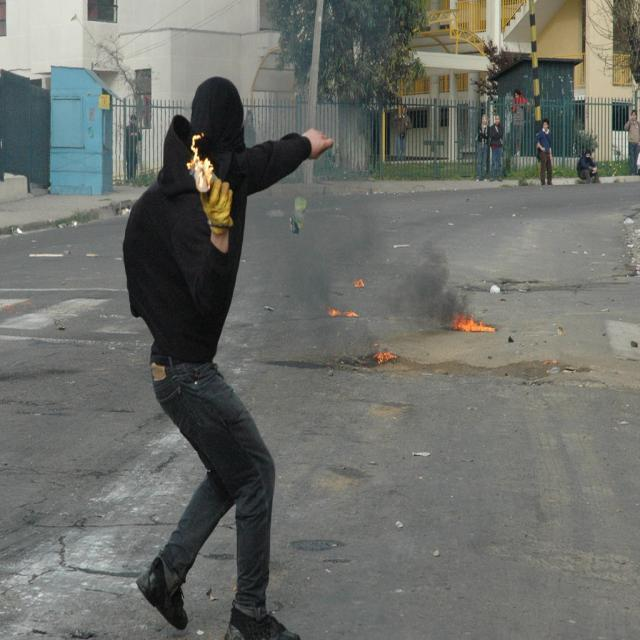Fire: (461, 319, 494, 335), (331, 310, 364, 321), (376, 346, 394, 362), (356, 276, 370, 290)
